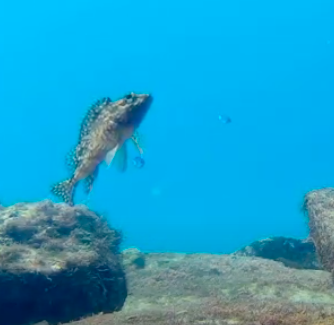mebaru: (49, 79, 163, 224)
